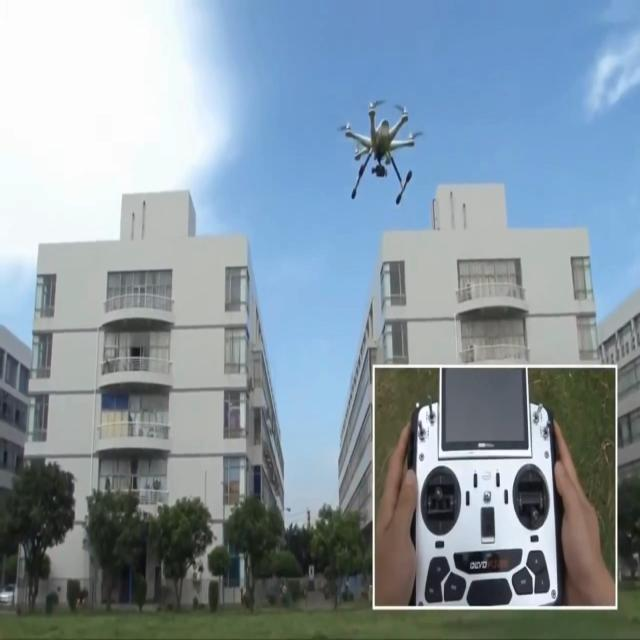drone: (337, 99, 423, 205)
